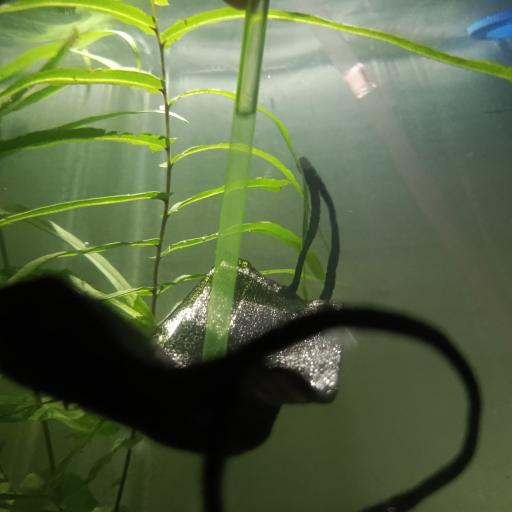bottle_cap: (461, 6, 512, 44)
mask: (0, 157, 482, 512)
plastic_straw: (301, 4, 502, 323), (200, 0, 268, 357)
